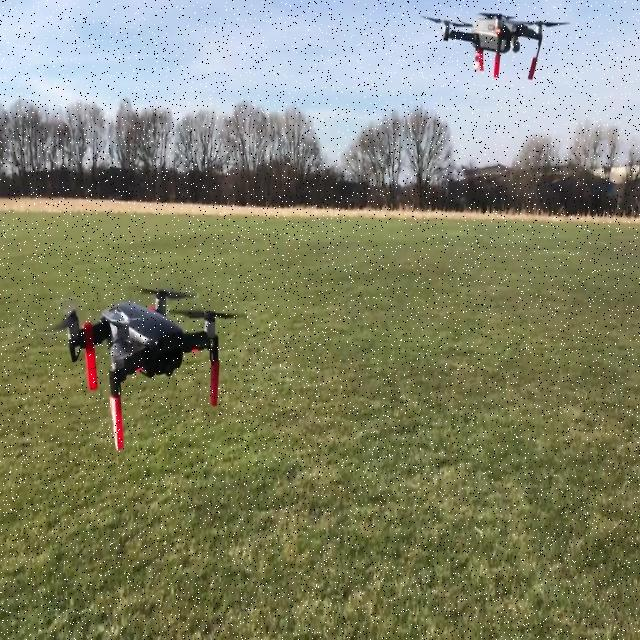UAV: (40, 286, 248, 451), (420, 11, 570, 81)
